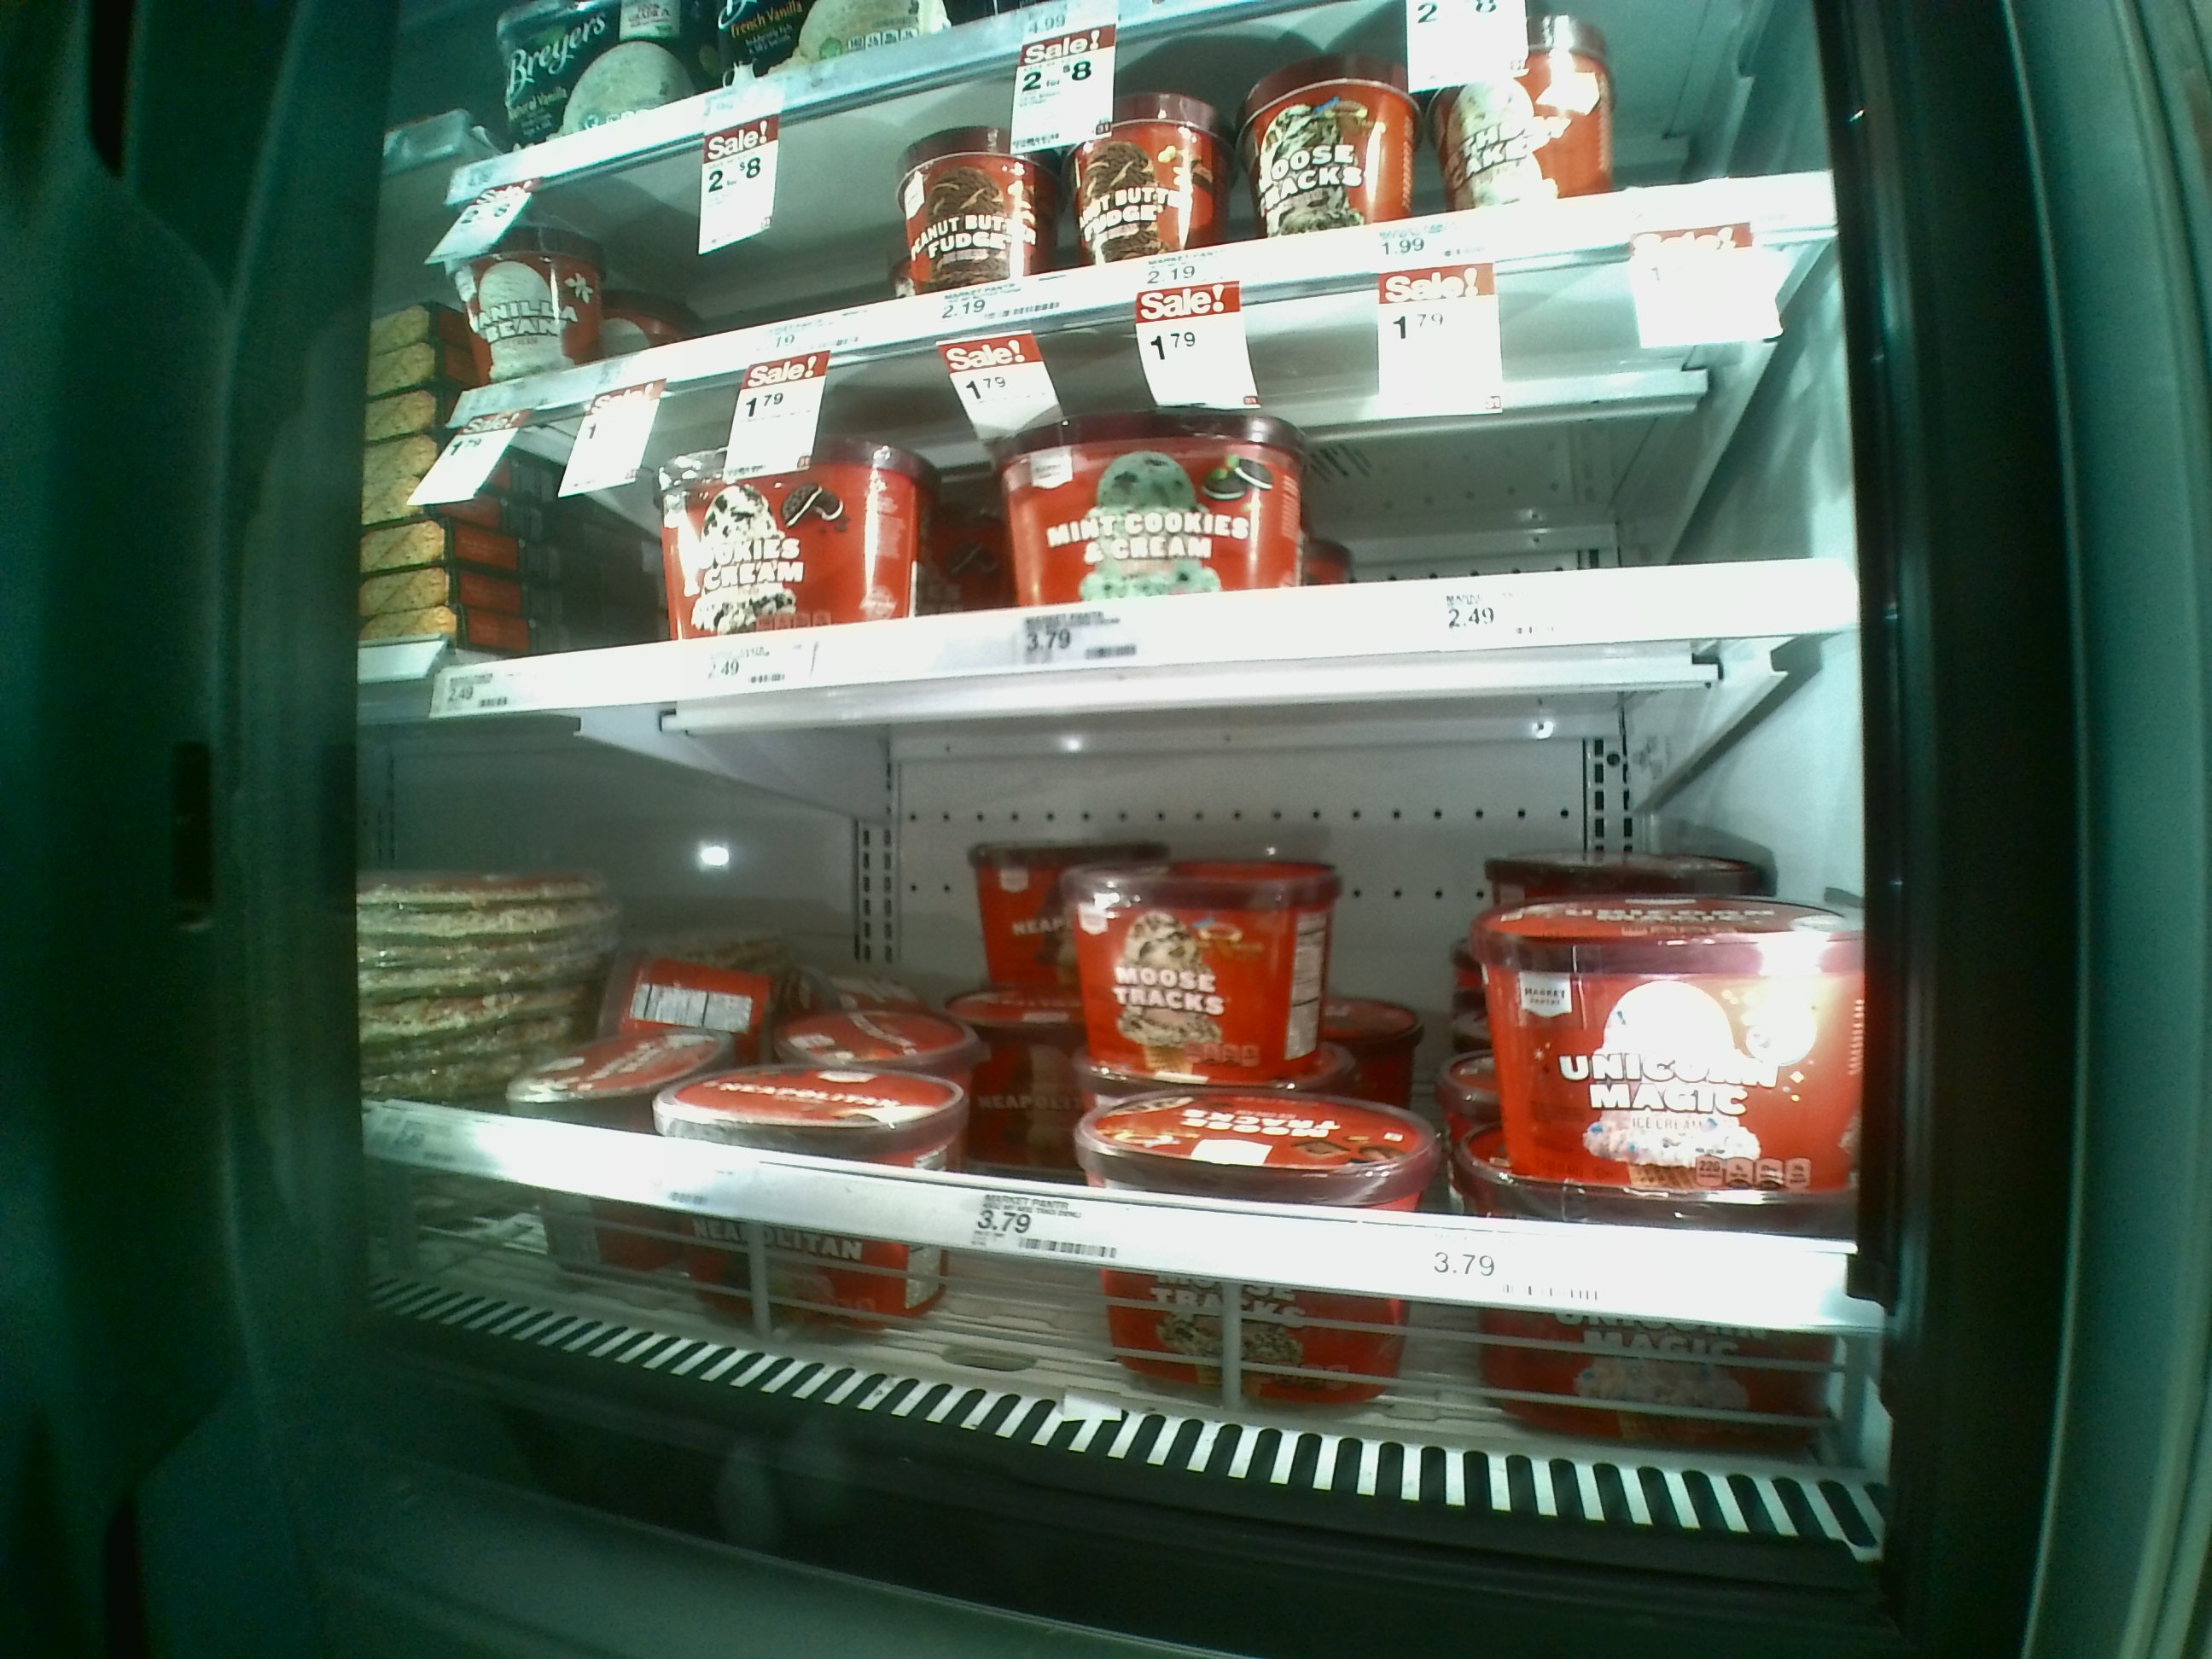shelf: (355, 636, 1867, 1399), (444, 227, 1860, 721)
